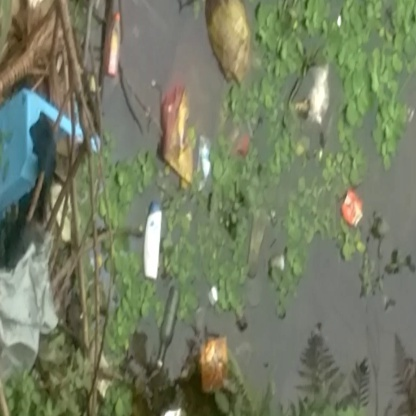plastic-bag: (155, 78, 197, 191)
